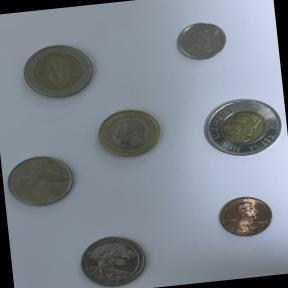coin: (197, 91, 288, 164), (16, 38, 102, 107), (2, 148, 79, 210), (92, 101, 168, 163), (73, 230, 152, 288), (213, 192, 276, 244), (171, 16, 233, 66)
